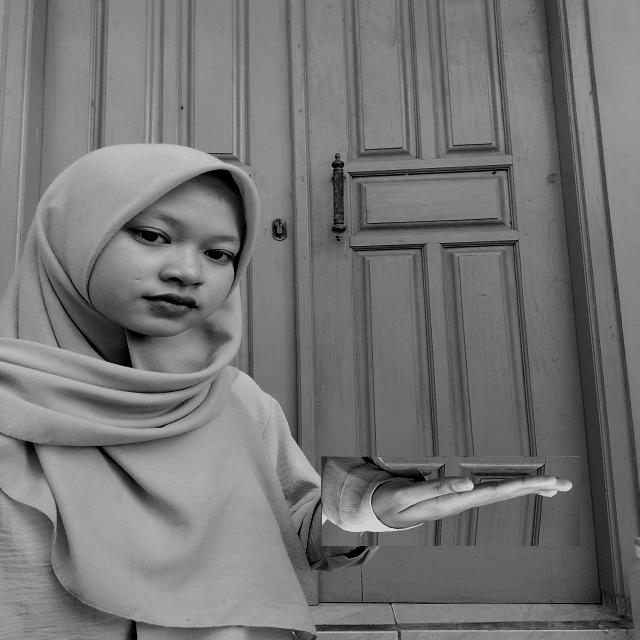adik: (321, 456, 580, 546)
